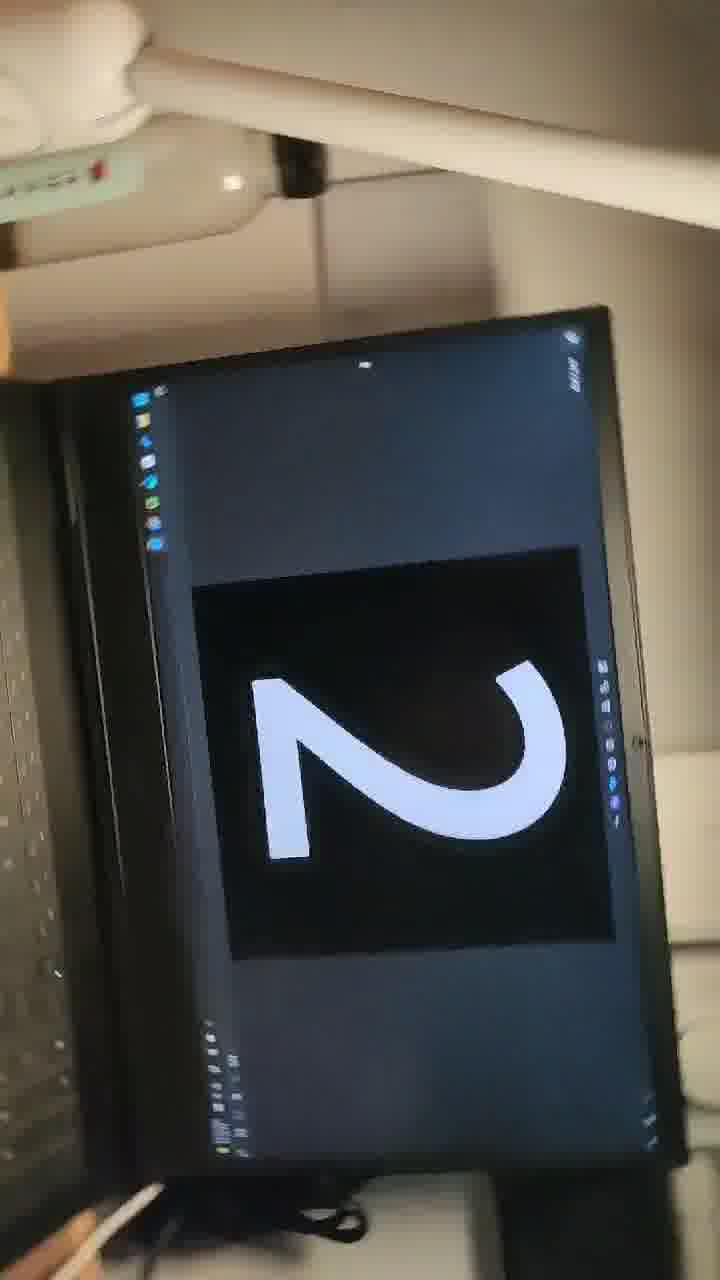two: (202, 528, 579, 967)
